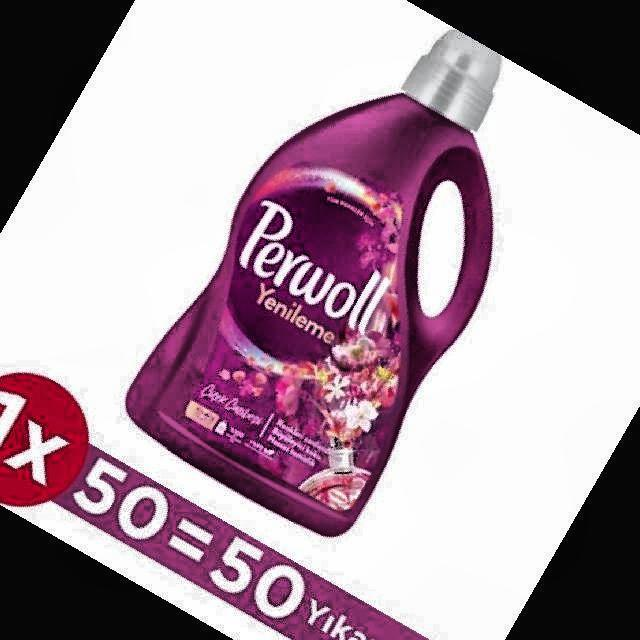plastic: (126, 30, 501, 535)
